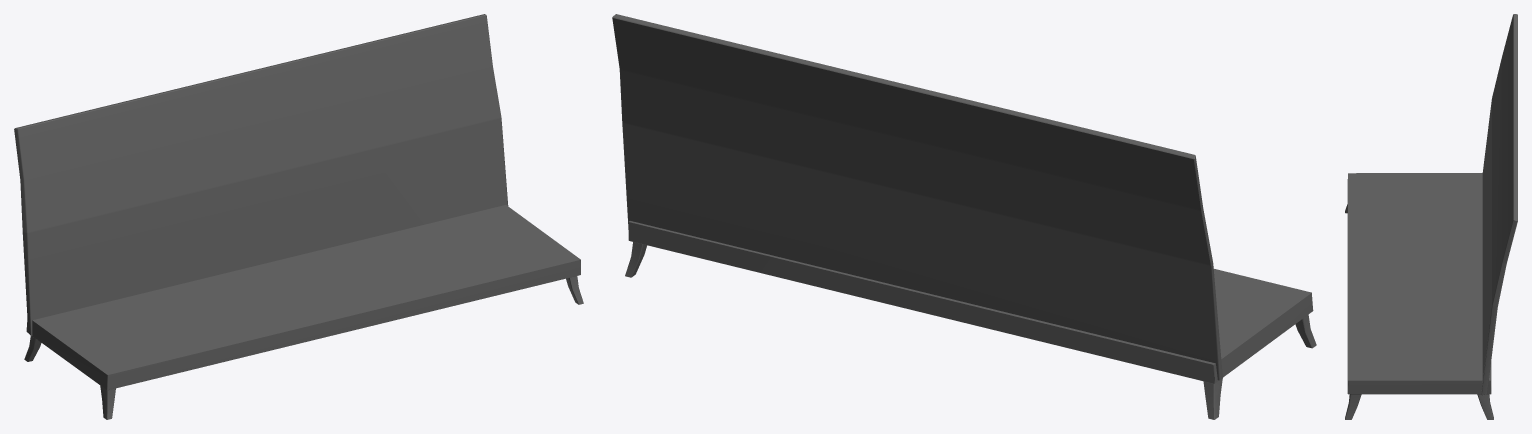
File: Sofa_215_1_sofa_215_0.obj
The picture shows the model from 3 angles, left to right: view 1: azimuth 30°, elevation 25°; view 2: azimuth 150°, elevation 25°; view 3: azimuth 270°, elevation 25°; orthographic projection. The views are drawn at different scales.
Size of the model in its own units: 2.48 by 1.1 by 0.8645.
